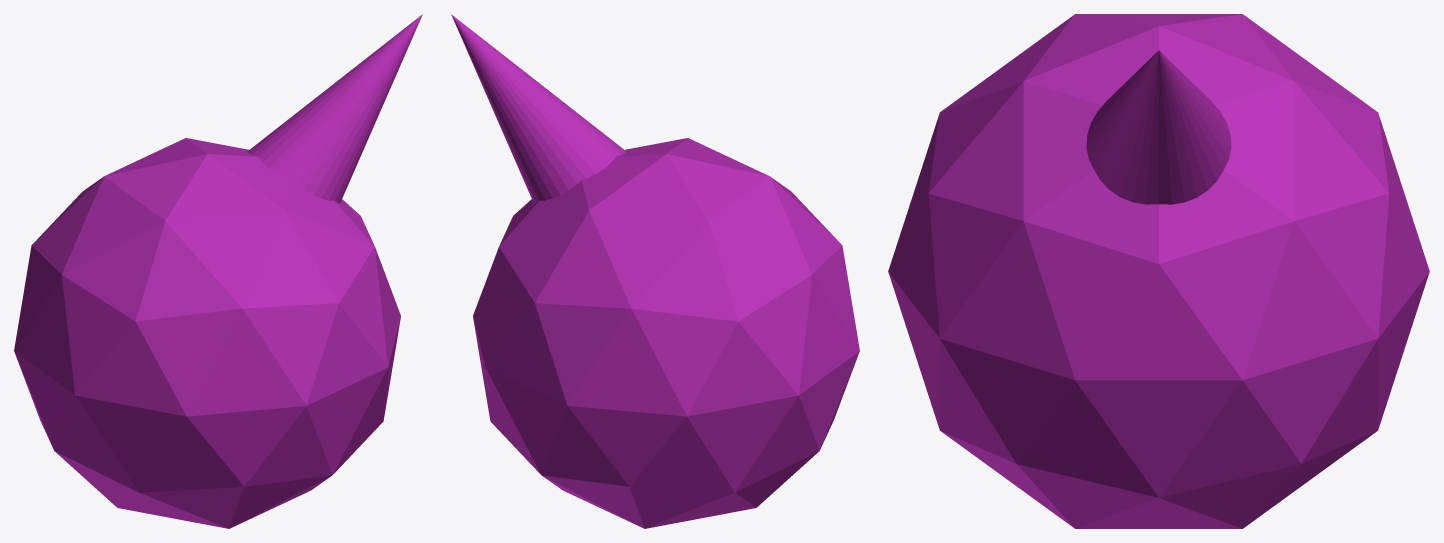
The model's file is Enemy.fbx.
3 renders of one model, left to right at view 1: azimuth 30°, elevation 25°; view 2: azimuth 150°, elevation 25°; view 3: azimuth 270°, elevation 25°, orthographic. The views are drawn at different scales.
Parts seen in each view (by area): view 1: Icosphere.001, Cone.001; view 2: Icosphere.001, Cone.001; view 3: Icosphere.001, Cone.001.
Part boxes in pixels (box(x1,y1,x2,y2)): Icosphere.001: box(14, 138, 400, 528); Cone.001: box(247, 14, 422, 203); Icosphere.001: box(473, 138, 859, 528); Cone.001: box(451, 14, 626, 203); Icosphere.001: box(888, 14, 1429, 528); Cone.001: box(1086, 50, 1231, 204).
Size of the model in its own units: 229 by 258 by 207.
